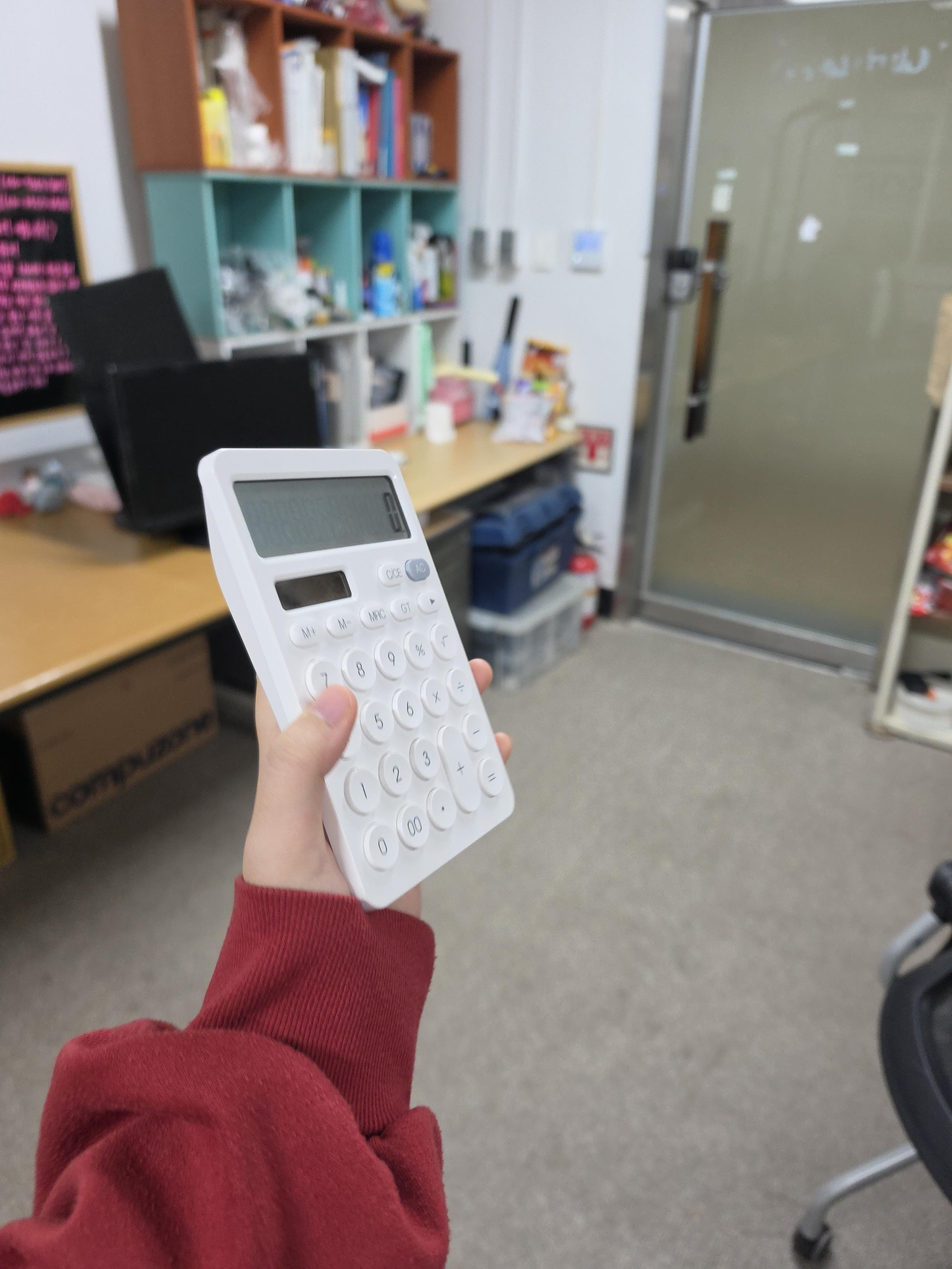calculator: (197, 446, 515, 912)
